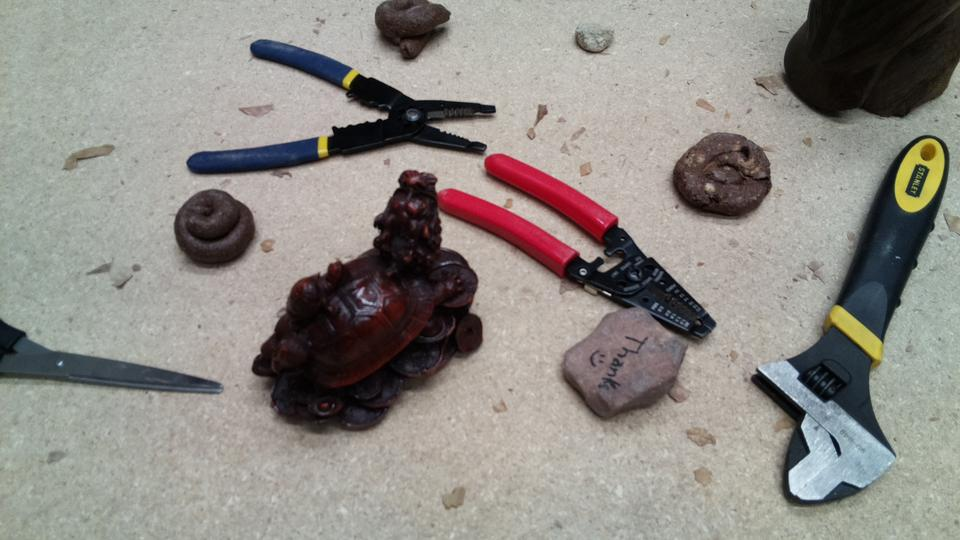poop: (669, 130, 775, 223), (170, 186, 258, 271), (370, 1, 453, 62)
